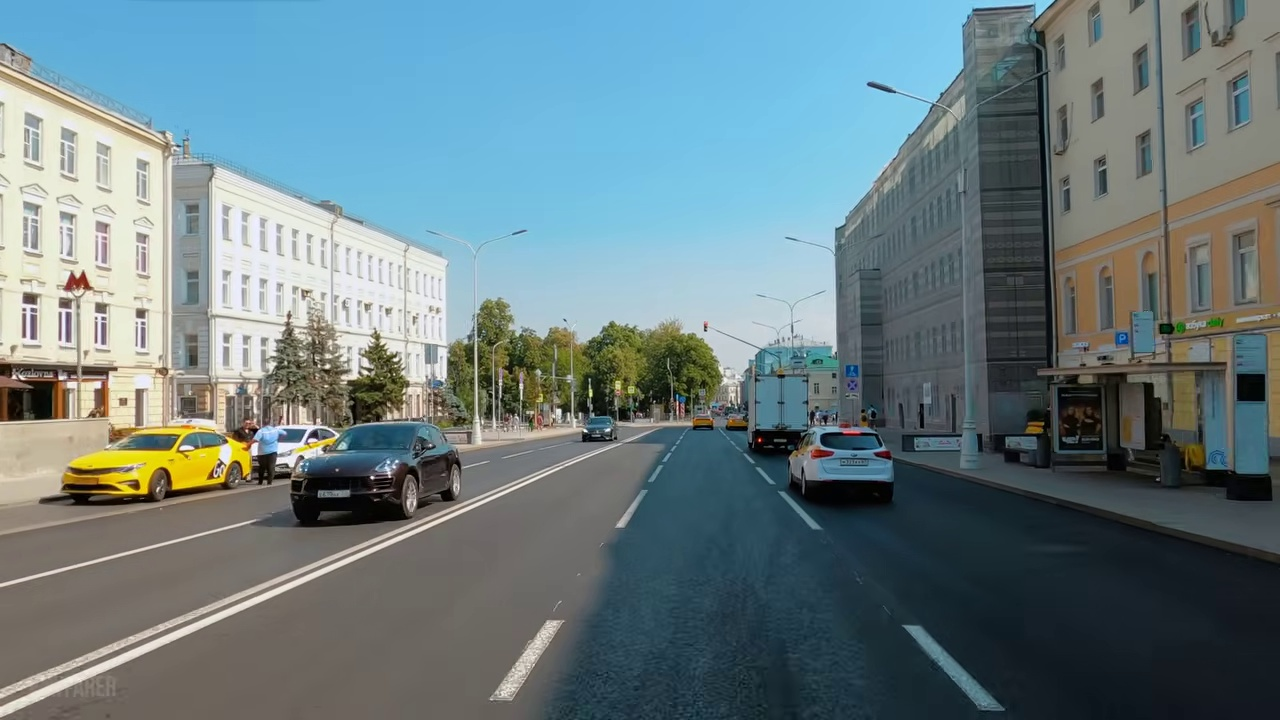apagada: (504, 213, 532, 246), (862, 73, 895, 98)
